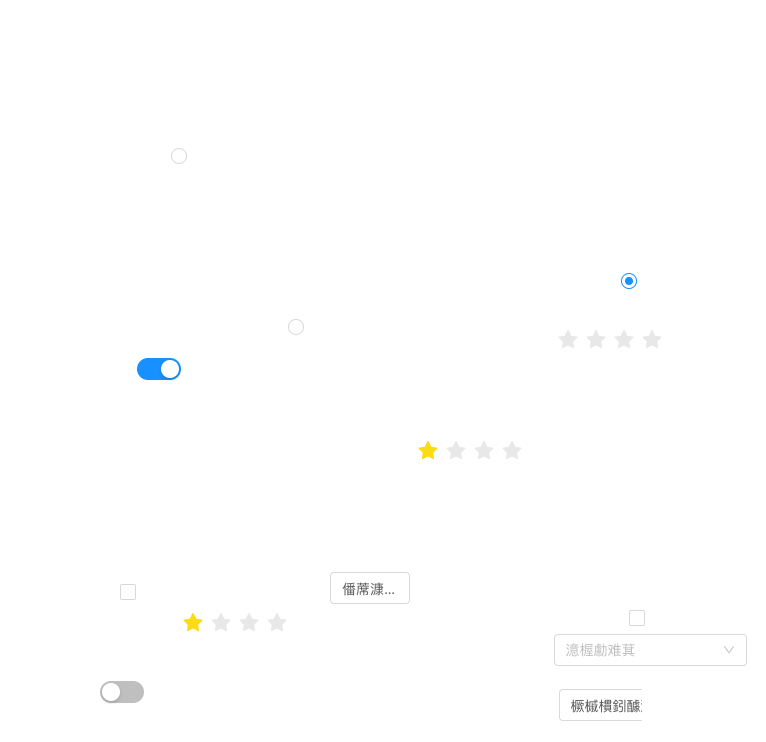Checkbox: (120, 581, 136, 602), (629, 607, 645, 628)
Input: (559, 689, 642, 721), (330, 572, 410, 604)
Radio: (288, 316, 304, 336), (171, 145, 187, 165), (621, 270, 637, 290)
Rate: (183, 606, 303, 638), (558, 323, 678, 355), (418, 434, 538, 466)
Select: (554, 634, 747, 666)
Switch: (100, 680, 144, 704), (137, 357, 181, 381)
